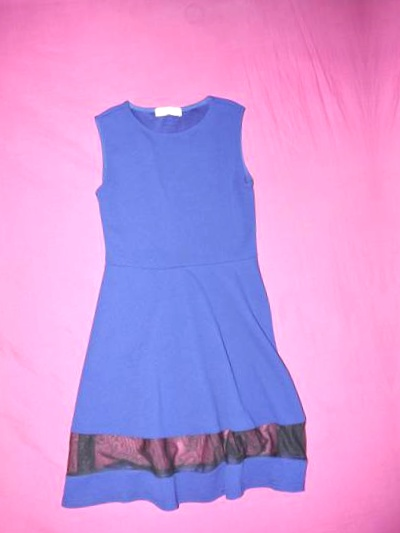Dress: (0, 61, 322, 532)
